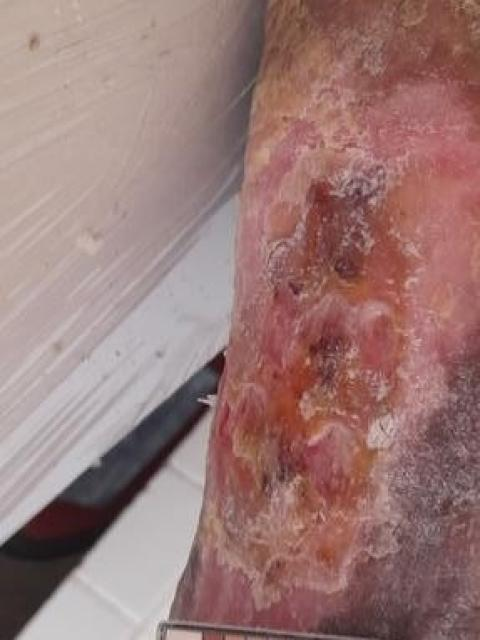wound: (191, 85, 480, 621)
